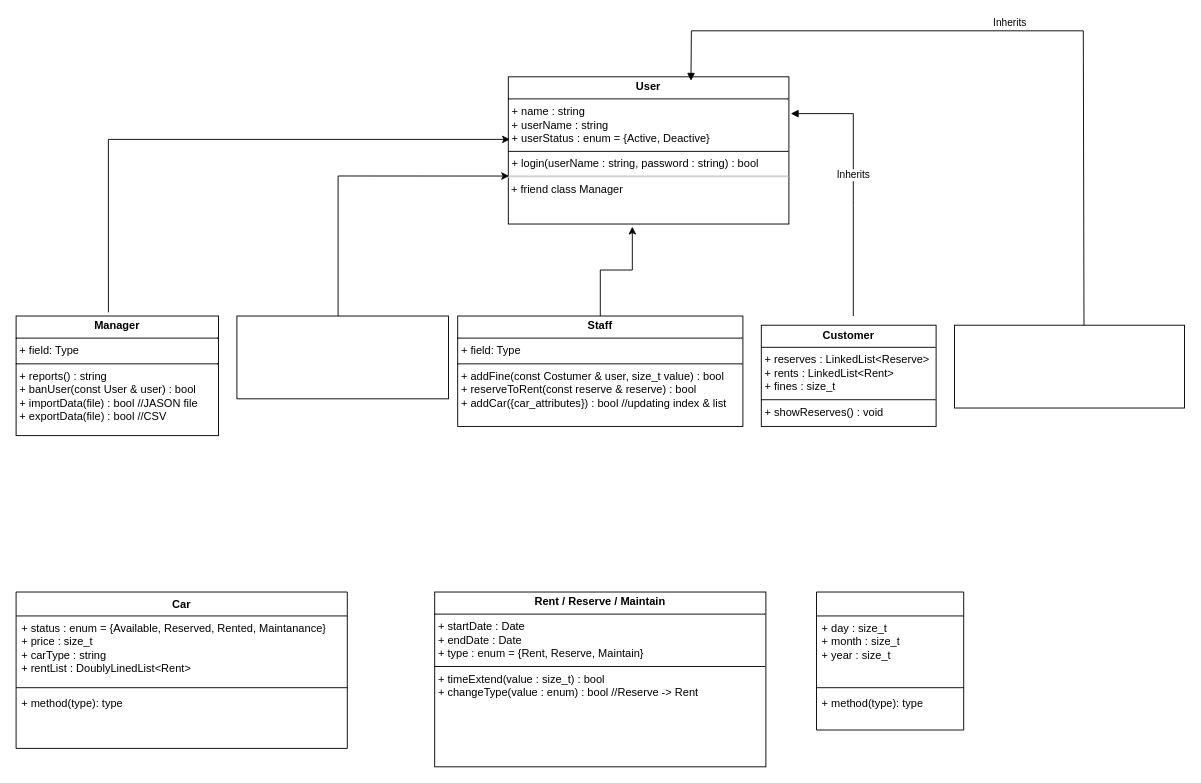
Image size: 1201x783. Some labels were removed from this diagram. The box of each missing label's shape, as (x1, y1, x2, y2) in pixels:
Date: (816, 591, 964, 730)
Guest + field: Type + searchCar(carName : string) : const car *: (954, 324, 1184, 408)
Maintainance + field: Type + changeStatus(const Car & car) : bool: (236, 315, 448, 399)
